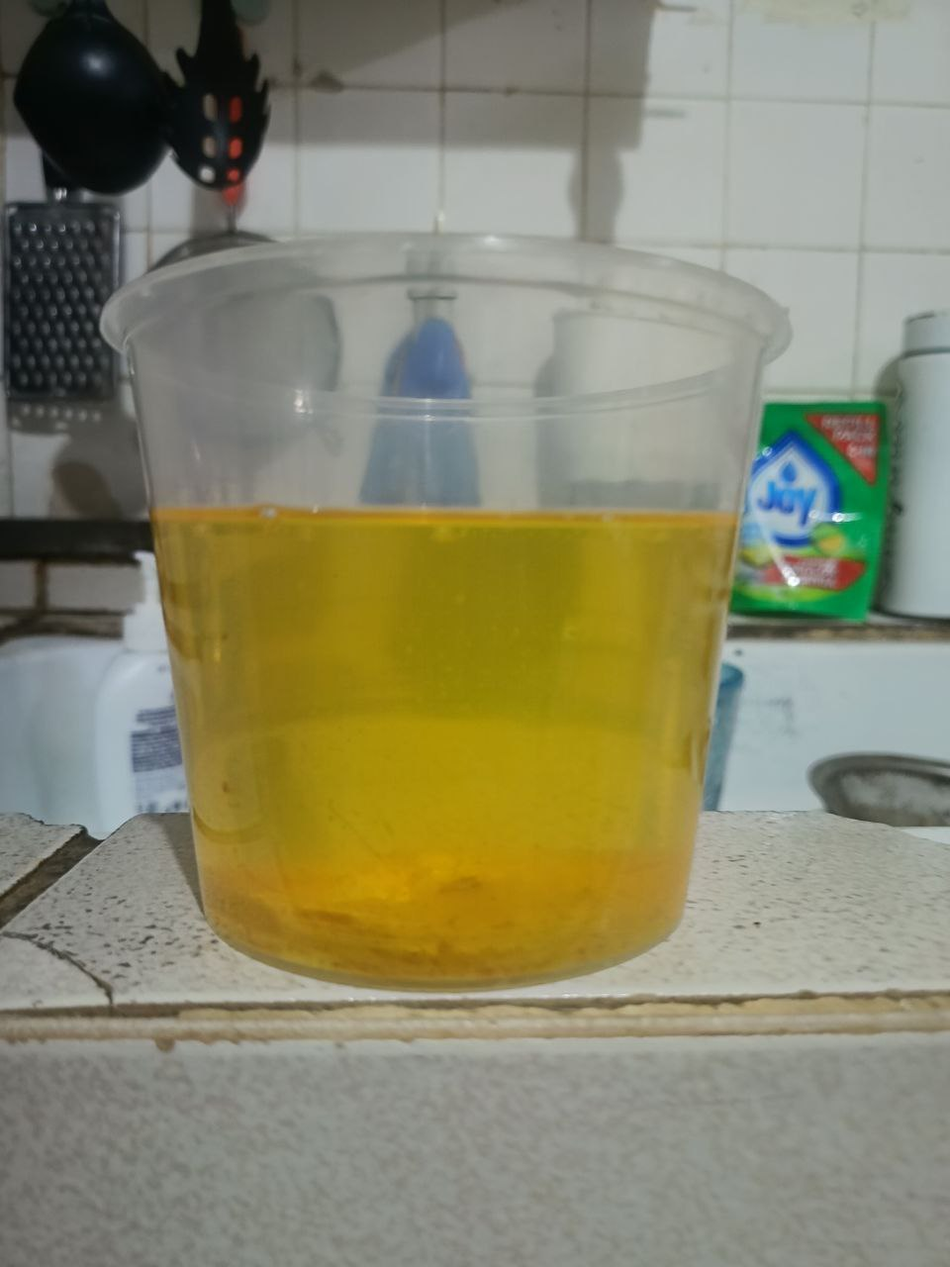reusable: (152, 508, 736, 987)
